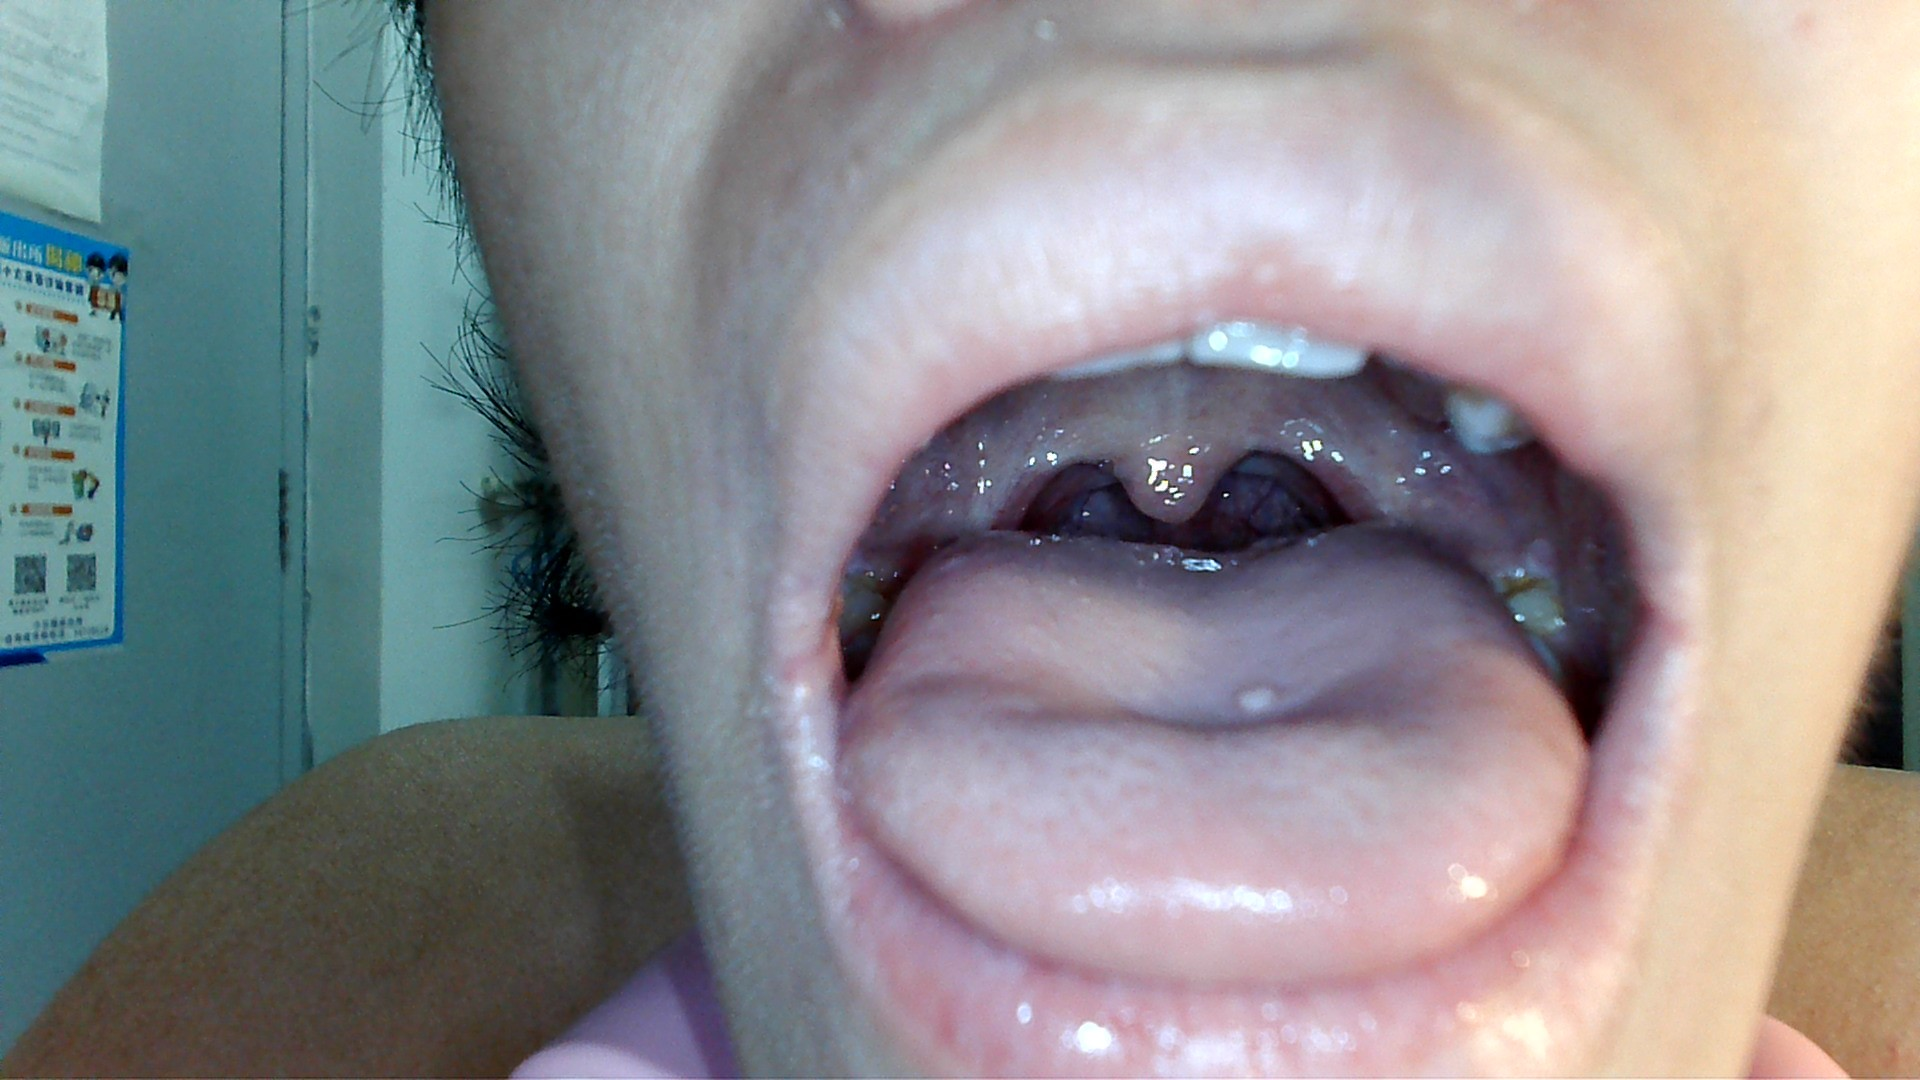throat: (1309, 440, 1390, 524), (975, 444, 1050, 527)
